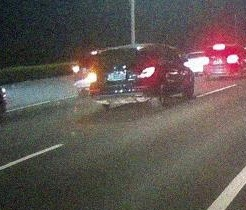L_light: (89, 72, 98, 83), (203, 56, 210, 65)
R_light: (137, 66, 156, 79), (227, 55, 238, 64)
T_light: (118, 48, 129, 51), (214, 46, 225, 49)
night-brake: (202, 45, 241, 80)
night-left: (89, 45, 157, 110)
